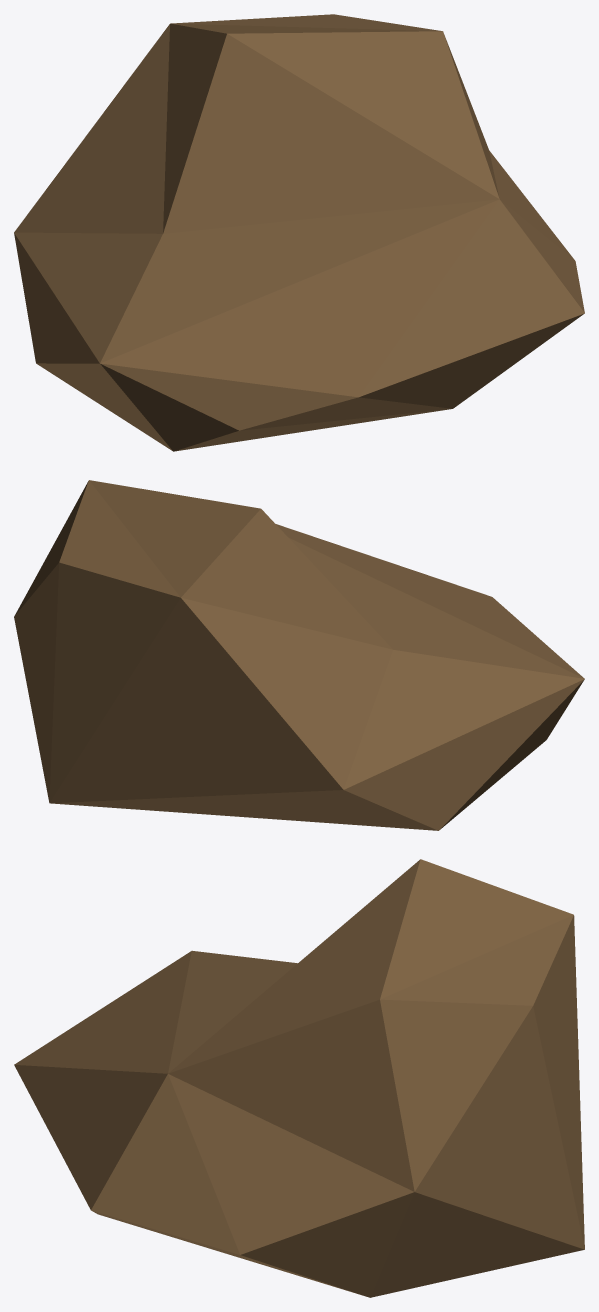
Rendered from Boulder-C03.fbx.
The picture shows the model from 3 angles, top to bottom: view 1: azimuth 30°, elevation 25°; view 2: azimuth 150°, elevation 25°; view 3: azimuth 270°, elevation 25°; orthographic projection. The views are drawn at different scales.
Parts seen in each view (by area): view 1: Boulder-C03; view 2: Boulder-C03; view 3: Boulder-C03.
Part boxes in pixels (x1=…): Boulder-C03: x1=14, y1=14, x2=584, y2=451; Boulder-C03: x1=14, y1=480, x2=584, y2=830; Boulder-C03: x1=14, y1=859, x2=584, y2=1297.
Bounding box in the file's own units: 160 × 87.96 × 145.
